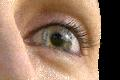eye: (43, 27, 72, 50)
